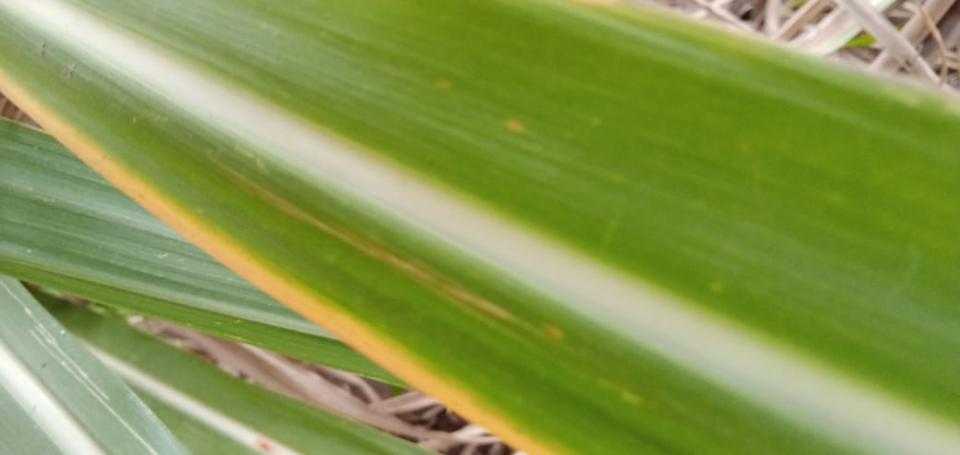RedRot: (257, 441, 271, 451)
Yellow: (0, 71, 564, 454), (272, 194, 514, 318), (506, 120, 523, 132)
